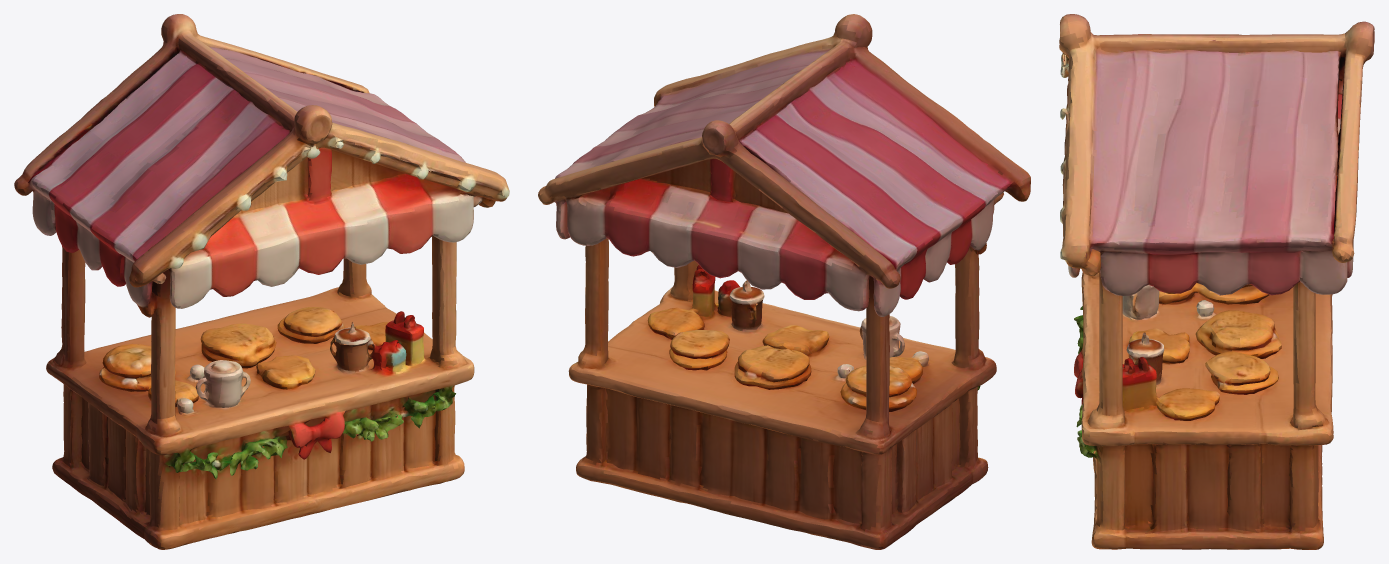
File: xmas_stall.glb
3 renders of one model, left to right at view 1: azimuth 30°, elevation 25°; view 2: azimuth 150°, elevation 25°; view 3: azimuth 270°, elevation 25°, orthographic. The views are drawn at different scales.
Visible parts, largest first — view 1: mesh_q; view 2: mesh_q; view 3: mesh_q.
Boxes of the visible parts, box(x1,y1,x2,y2) form: mesh_q: box(14, 14, 509, 549); mesh_q: box(538, 14, 1030, 549); mesh_q: box(1059, 14, 1374, 549).
Size of the model in its own units: 91.68 by 97.92 by 62.02.
Materials: 1 (1 with a texture image).
